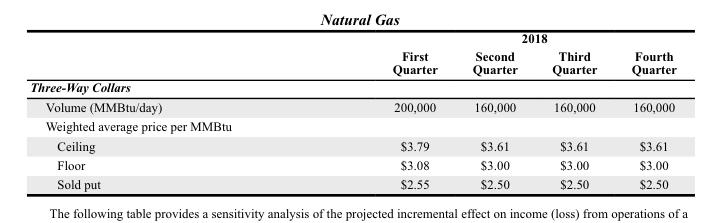table: (29, 29, 675, 192)
table column: (29, 29, 276, 192), (276, 29, 454, 192), (454, 29, 534, 192), (534, 29, 613, 192), (613, 29, 675, 192)
table column header: (29, 29, 675, 77)
table projected row header: (29, 115, 675, 135), (29, 77, 675, 96)
table row: (29, 46, 675, 77), (29, 115, 675, 135), (29, 154, 675, 174), (29, 77, 675, 96), (29, 96, 675, 115), (29, 135, 675, 154), (29, 174, 675, 192), (29, 29, 675, 46)
table spanning cell: (276, 29, 675, 46)
